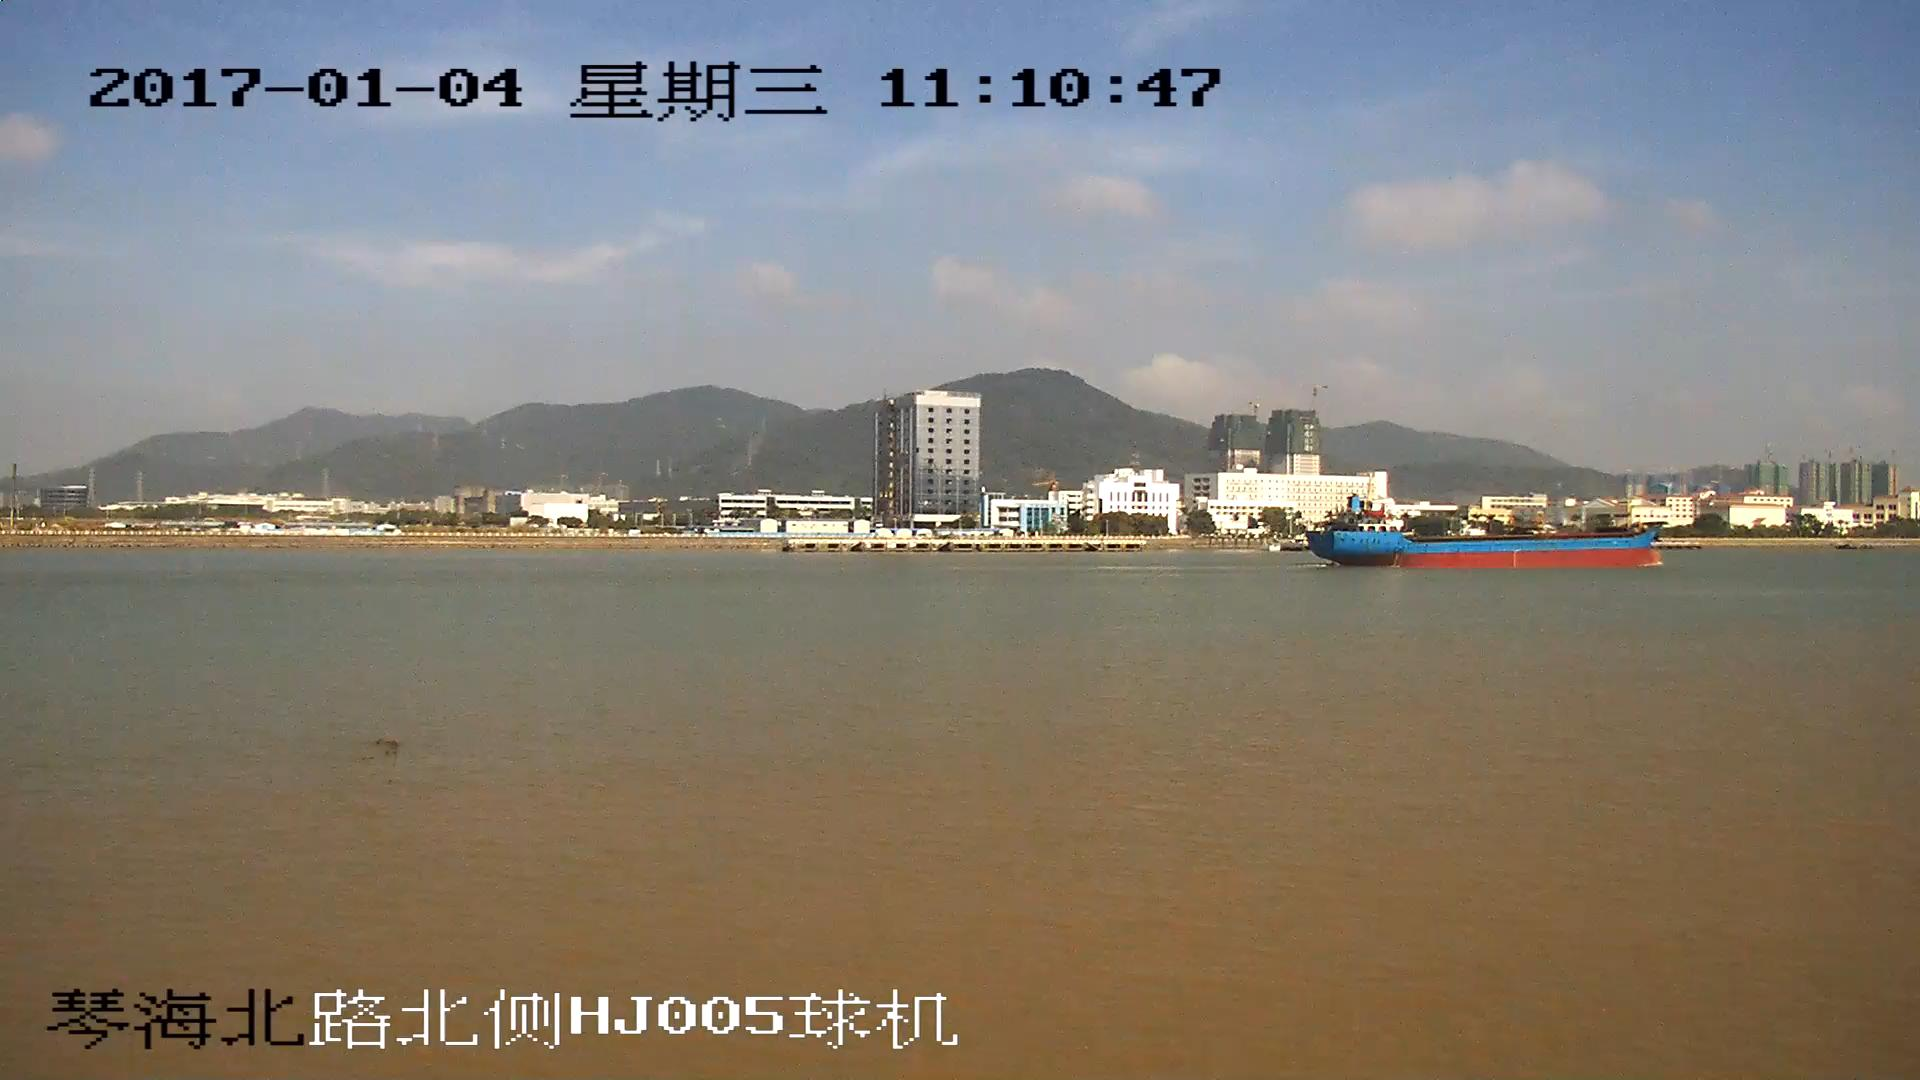general cargo ship: (1313, 495, 1663, 572)
